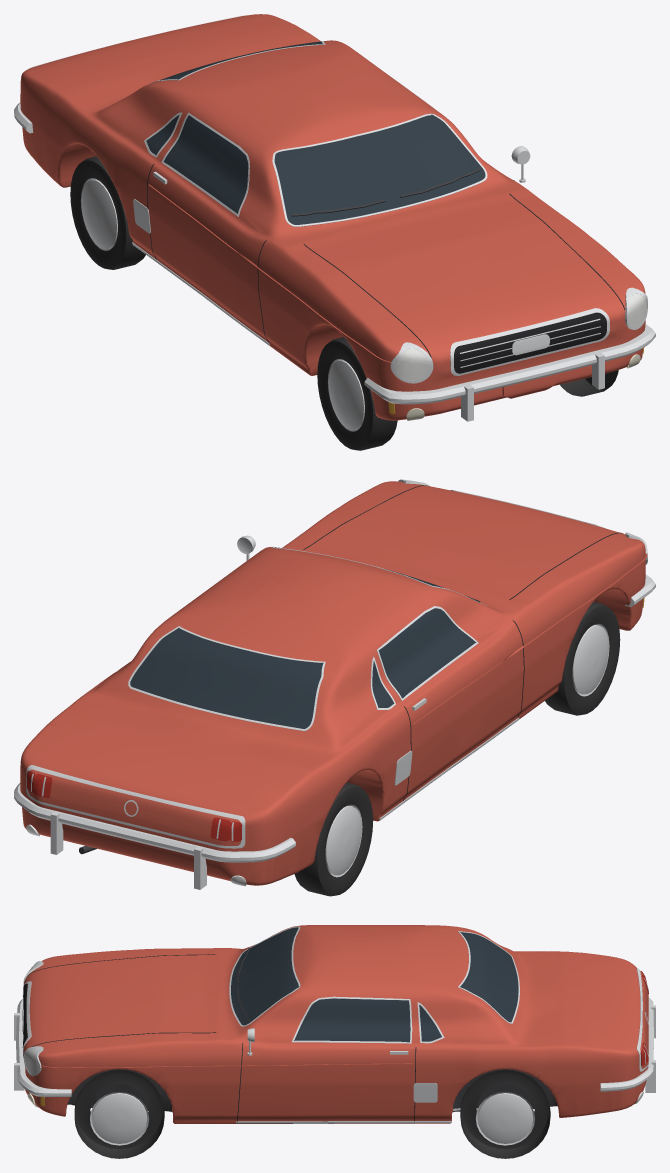
File: mustang65.glb
The picture shows the model from 3 angles, top to bottom: view 1: azimuth 30°, elevation 25°; view 2: azimuth 150°, elevation 25°; view 3: azimuth 270°, elevation 25°; orthographic projection. The views are drawn at different scales.
Visible parts, largest first — view 1: paint, glass, trim, wheel_fr, wheel_rr, headlights, wheel_fl; view 2: paint, trim, glass, wheel_rr, wheel_fr, taillights; view 3: paint, glass, trim, wheel_fl, wheel_rl.
Boxes of the visible parts, x1=… form: paint: x1=20, y1=14, x2=645, y2=420; glass: x1=146, y1=41, x2=485, y2=224; trim: x1=14, y1=15, x2=655, y2=421; wheel_fr: x1=317, y1=337, x2=397, y2=450; wheel_rr: x1=70, y1=156, x2=145, y2=269; headlights: x1=395, y1=293, x2=646, y2=380; wheel_fl: x1=560, y1=370, x2=618, y2=396; paint: x1=20, y1=481, x2=645, y2=885; trim: x1=14, y1=479, x2=655, y2=889; glass: x1=130, y1=547, x2=475, y2=728; wheel_rr: x1=294, y1=782, x2=373, y2=896; wheel_fr: x1=545, y1=601, x2=620, y2=715; taillights: x1=33, y1=773, x2=230, y2=841; paint: x1=23, y1=925, x2=648, y2=1123; glass: x1=231, y1=927, x2=518, y2=1042; trim: x1=14, y1=926, x2=655, y2=1123; wheel_fl: x1=74, y1=1070, x2=164, y2=1158; wheel_rl: x1=460, y1=1070, x2=550, y2=1158.
Bounding box in the file's own units: 1.8 × 1.3 × 4.56.
